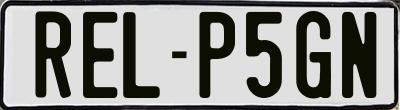5: (245, 9, 283, 95)
E: (80, 9, 119, 95)
G: (296, 8, 334, 102)
L: (123, 12, 164, 104)
N: (342, 11, 377, 100)
P: (198, 10, 239, 97)
R: (35, 10, 72, 100)
